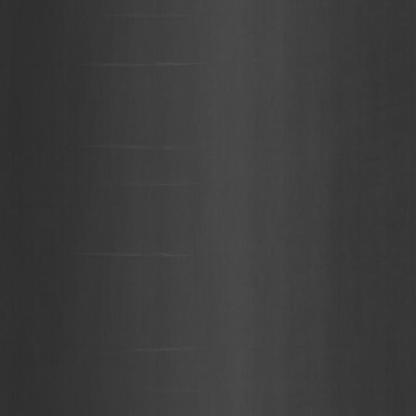waist_folding: (62, 19, 189, 396)
